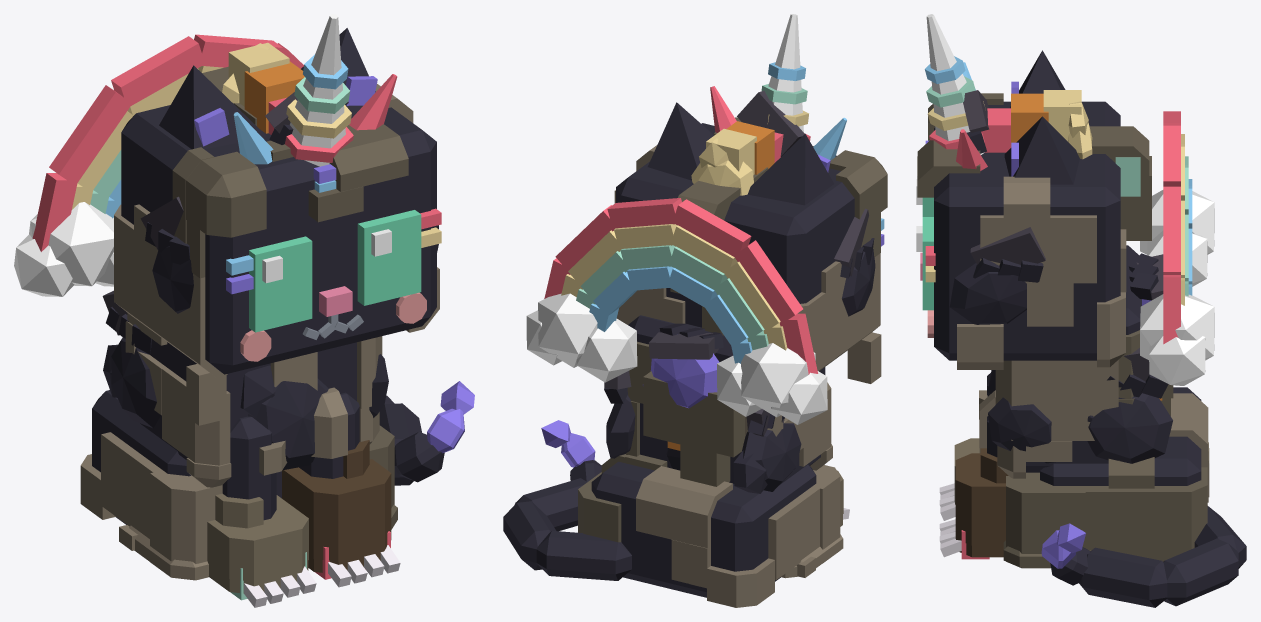
The model's file is CleanACat_Cat_Prism_Dirty_Sit.fbx.
The picture shows the model from 3 angles, left to right: view 1: azimuth 30°, elevation 25°; view 2: azimuth 150°, elevation 25°; view 3: azimuth 270°, elevation 25°; orthographic projection. The views are drawn at different scales.
Visible parts, largest first — view 1: CleanACat_Cat_Prism_Dirty_Sit_Head, CleanACat_Cat_Prism_Dirty_Sit_Rainbow_Glow, CleanACat_Cat_Prism_Dirty_Sit_Mud01, CleanACat_Cat_Prism_Dirty_Sit_Mud17, CleanACat_Cat_Prism_Dirty_Sit_Mud18, CleanACat_Cat_Prism_Dirty_Sit_Mud06, CleanACat_Cat_Prism_Dirty_Sit_Body, CleanACat_Cat_Prism_Dirty_Sit_Prop2, CleanACat_Cat_Prism_Dirty_Sit_Mud16, CleanACat_Cat_Prism_Dirty_Sit_Mud03, CleanACat_Cat_Prism_Dirty_Sit_Mud14, CleanACat_Cat_Prism_Dirty_Sit_Eye1 (+22 smaller); view 2: CleanACat_Cat_Prism_Dirty_Sit_Rainbow_Glow, CleanACat_Cat_Prism_Dirty_Sit_Head, CleanACat_Cat_Prism_Dirty_Sit_Prop2, CleanACat_Cat_Prism_Dirty_Sit_Body, CleanACat_Cat_Prism_Dirty_Sit_Tail, CleanACat_Cat_Prism_Dirty_Sit_Mud09, CleanACat_Cat_Prism_Dirty_Sit_Mud13, CleanACat_Cat_Prism_Dirty_Sit_Mud14, CleanACat_Cat_Prism_Dirty_Sit_Mud01, CleanACat_Cat_Prism_Dirty_Sit_EarR, CleanACat_Cat_Prism_Dirty_Sit_Fluff06, CleanACat_Cat_Prism_Dirty_Sit_Mud06 (+17 smaller); view 3: CleanACat_Cat_Prism_Dirty_Sit_Head, CleanACat_Cat_Prism_Dirty_Sit_Mud02, CleanACat_Cat_Prism_Dirty_Sit_Tail, CleanACat_Cat_Prism_Dirty_Sit_Mud12, CleanACat_Cat_Prism_Dirty_Sit_Mud08, CleanACat_Cat_Prism_Dirty_Sit_Prop2, CleanACat_Cat_Prism_Dirty_Sit_Rainbow_Glow, CleanACat_Cat_Prism_Dirty_Sit_Mud15, CleanACat_Cat_Prism_Dirty_Sit_Body, CleanACat_Cat_Prism_Dirty_Sit_Mud17, CleanACat_Cat_Prism_Dirty_Sit_Fluff05, CleanACat_Cat_Prism_Dirty_Sit_Mud04 (+19 smaller).
Part boxes in pixels (x1,y1,x2,y2): CleanACat_Cat_Prism_Dirty_Sit_Head: (121, 42, 441, 374); CleanACat_Cat_Prism_Dirty_Sit_Rainbow_Glow: (32, 34, 303, 251); CleanACat_Cat_Prism_Dirty_Sit_Mud01: (114, 204, 227, 425); CleanACat_Cat_Prism_Dirty_Sit_Mud17: (282, 440, 391, 572); CleanACat_Cat_Prism_Dirty_Sit_Mud18: (207, 493, 308, 593); CleanACat_Cat_Prism_Dirty_Sit_Mud06: (172, 147, 266, 278); CleanACat_Cat_Prism_Dirty_Sit_Body: (92, 339, 356, 524); CleanACat_Cat_Prism_Dirty_Sit_Prop2: (14, 202, 113, 296); CleanACat_Cat_Prism_Dirty_Sit_Mud16: (129, 470, 222, 580); CleanACat_Cat_Prism_Dirty_Sit_Mud03: (266, 124, 408, 222); CleanACat_Cat_Prism_Dirty_Sit_Mud14: (80, 432, 162, 550); CleanACat_Cat_Prism_Dirty_Sit_Eye1: (357, 210, 421, 305); CleanACat_Cat_Prism_Dirty_Sit_Rainbow_Glow: (544, 198, 818, 374); CleanACat_Cat_Prism_Dirty_Sit_Head: (616, 121, 884, 327); CleanACat_Cat_Prism_Dirty_Sit_Prop2: (526, 293, 827, 424); CleanACat_Cat_Prism_Dirty_Sit_Body: (591, 315, 825, 597); CleanACat_Cat_Prism_Dirty_Sit_Tail: (503, 420, 631, 580); CleanACat_Cat_Prism_Dirty_Sit_Mud09: (626, 341, 744, 486); CleanACat_Cat_Prism_Dirty_Sit_Mud13: (636, 466, 732, 588); CleanACat_Cat_Prism_Dirty_Sit_Mud14: (707, 486, 819, 607); CleanACat_Cat_Prism_Dirty_Sit_Mud01: (720, 253, 881, 383); CleanACat_Cat_Prism_Dirty_Sit_EarR: (747, 133, 833, 205); CleanACat_Cat_Prism_Dirty_Sit_Fluff06: (733, 419, 801, 493); CleanACat_Cat_Prism_Dirty_Sit_Mud06: (829, 150, 887, 257); CleanACat_Cat_Prism_Dirty_Sit_Head: (920, 90, 1140, 360); CleanACat_Cat_Prism_Dirty_Sit_Mud02: (957, 176, 1096, 369); CleanACat_Cat_Prism_Dirty_Sit_Tail: (1041, 506, 1246, 607); CleanACat_Cat_Prism_Dirty_Sit_Mud12: (1085, 457, 1207, 561); CleanACat_Cat_Prism_Dirty_Sit_Mud08: (995, 360, 1118, 478); CleanACat_Cat_Prism_Dirty_Sit_Prop2: (1140, 190, 1214, 385); CleanACat_Cat_Prism_Dirty_Sit_Rainbow_Glow: (1163, 111, 1192, 344); CleanACat_Cat_Prism_Dirty_Sit_Mud15: (1003, 472, 1090, 568); CleanACat_Cat_Prism_Dirty_Sit_Body: (1026, 245, 1201, 485); CleanACat_Cat_Prism_Dirty_Sit_Mud17: (955, 448, 1008, 557); CleanACat_Cat_Prism_Dirty_Sit_Fluff05: (1087, 393, 1172, 463); CleanACat_Cat_Prism_Dirty_Sit_Mud04: (1089, 126, 1151, 240).
Bounding box in the file's own units: 1.52 × 2.13 × 1.24.
1 material, 1 textured.
